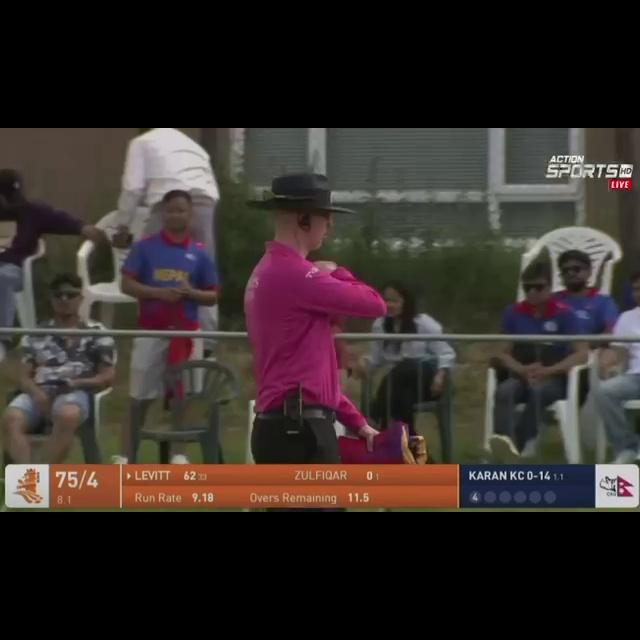umpire: (206, 163, 449, 464)
